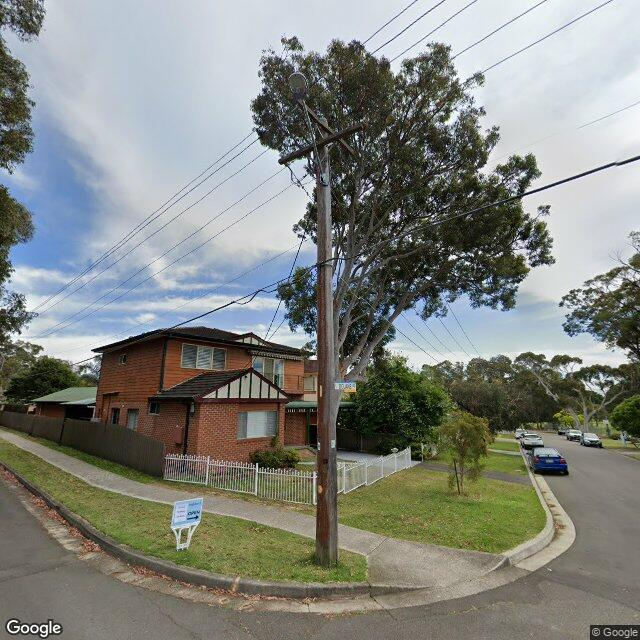crossarm: (296, 98, 358, 158), (278, 122, 365, 164)
streetlight: (288, 72, 328, 185)
timber-pole: (315, 116, 337, 566)
